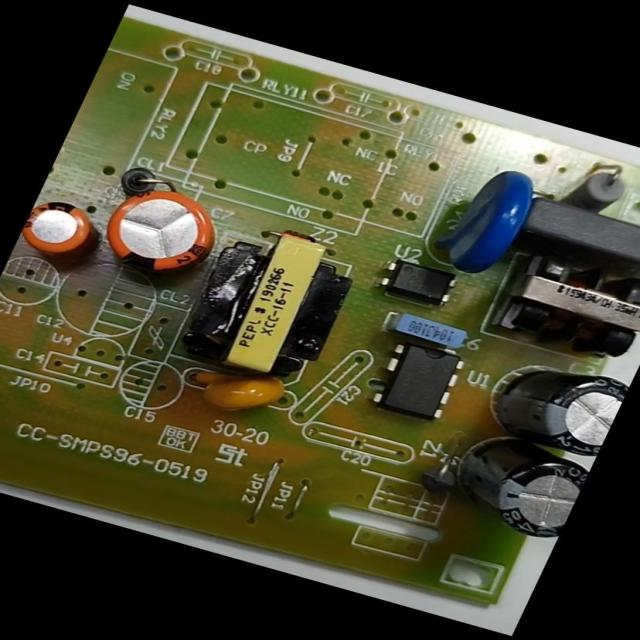Cap1: (83, 174, 232, 293)
Cap2: (12, 191, 108, 270)
Cap3: (464, 342, 633, 467)
Cap4: (419, 415, 597, 549)
MOSFET: (358, 331, 475, 428)
Mov: (412, 152, 552, 290)
Resistor: (546, 150, 640, 221)
Transformer: (166, 210, 370, 394), (486, 239, 640, 371)
